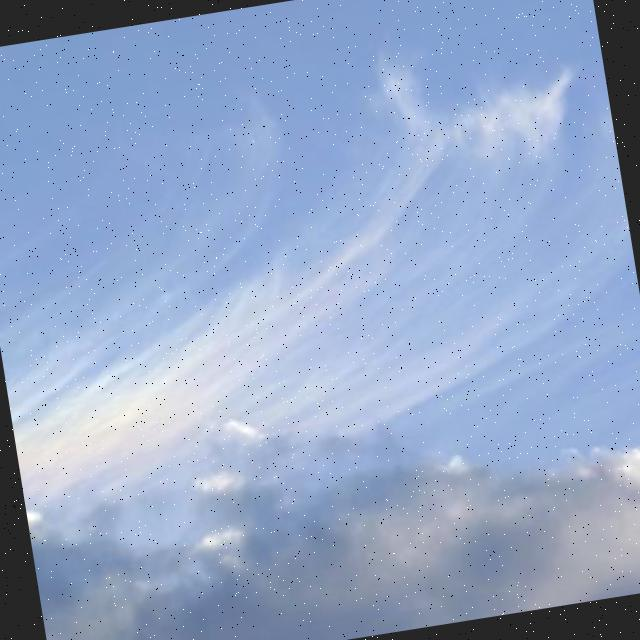Ci: (96, 11, 626, 430)
